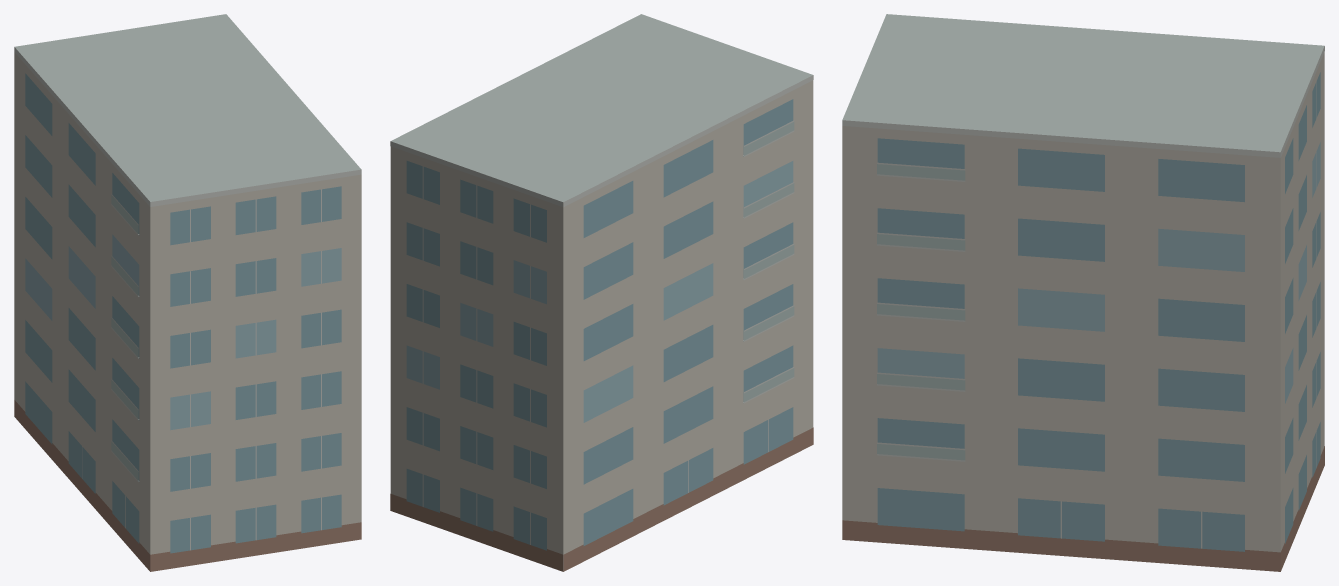
Rendered from survey-upis-32957389.glb.
The picture shows the model from 3 angles, left to right: view 1: azimuth 30°, elevation 25°; view 2: azimuth 150°, elevation 25°; view 3: azimuth 270°, elevation 25°; orthographic projection. The views are drawn at different scales.
Parts seen in each view (by area): view 1: survey-upis-32957389.tmp; view 2: survey-upis-32957389.tmp; view 3: survey-upis-32957389.tmp.
Boxes of the visible parts, <box> form: survey-upis-32957389.tmp: <box>14,14,361,571</box>; survey-upis-32957389.tmp: <box>390,14,813,571</box>; survey-upis-32957389.tmp: <box>842,14,1324,571</box>.
Size of the model in its own units: 12.73 by 18 by 18.77.
